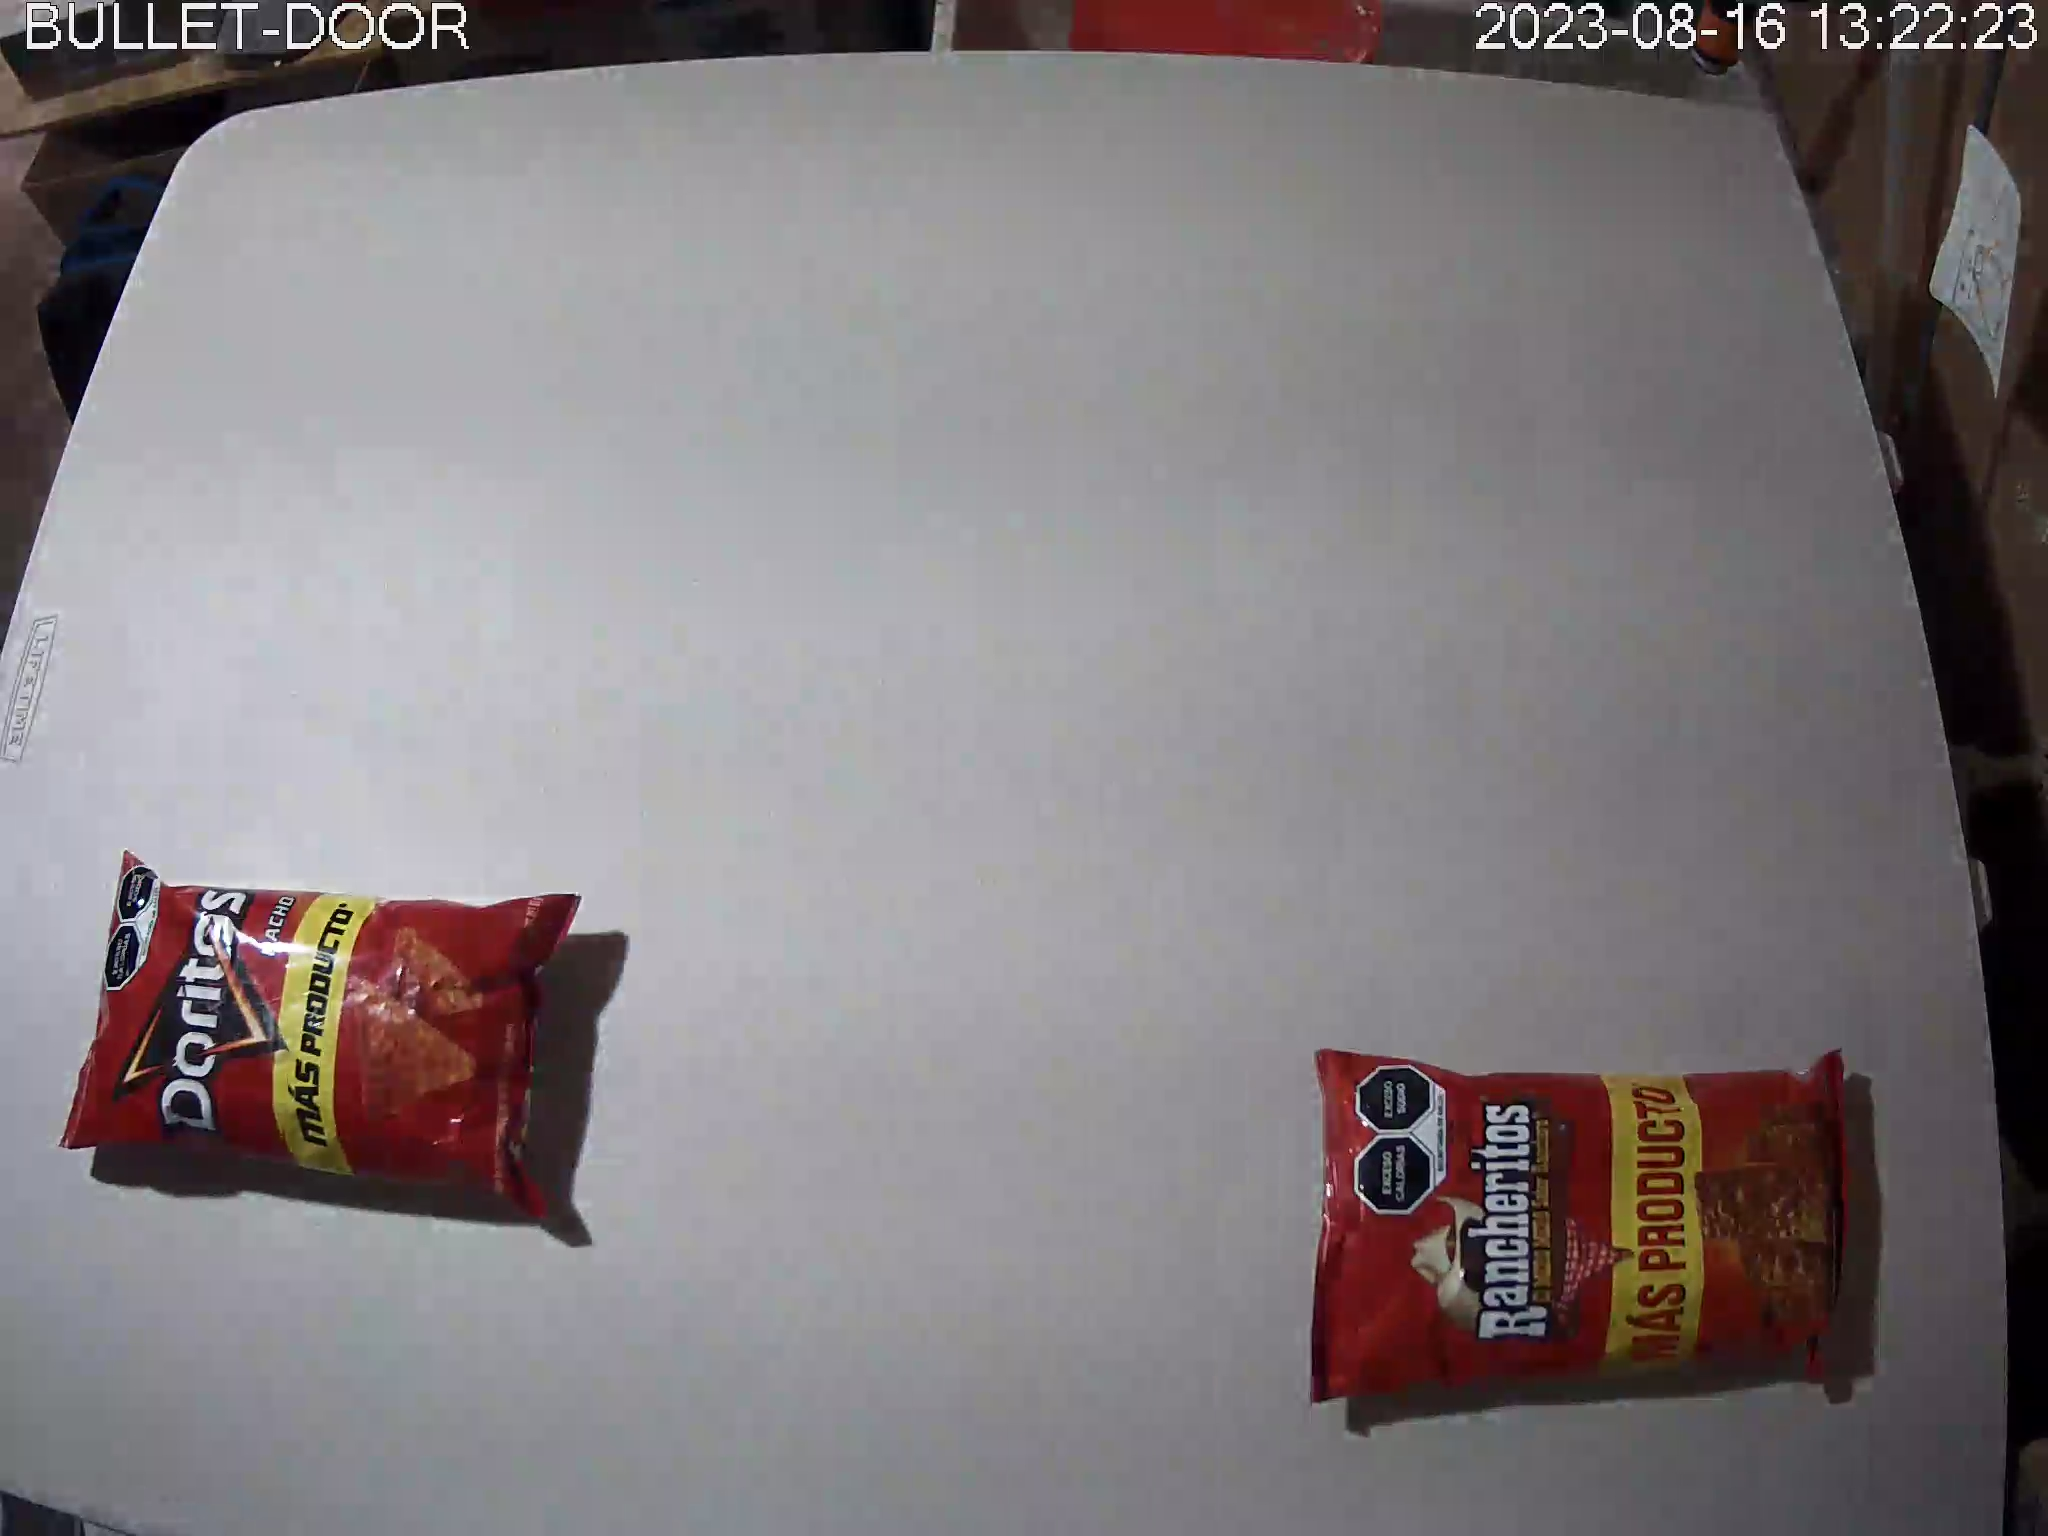DoritosN_61_F: (60, 847, 584, 1229)
Rancheritos_58_F: (1309, 1046, 1851, 1404)
